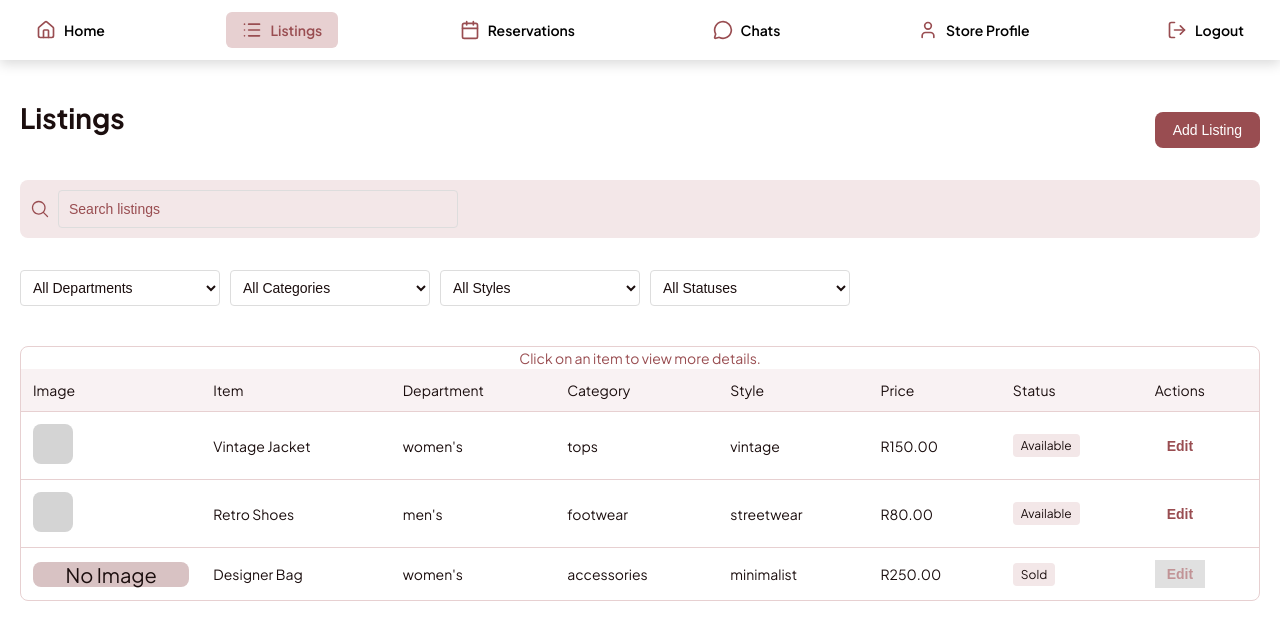
Scenario: StoreListings › Search and Filtering › filters by department
The width and height of the screenshot is (1280, 618).
Expected: the text "Vintage Jacket" is shown, [201, 412, 391, 480]
Select "men's" in the 1st dropdown showing "All Departments" at (120, 288), box [20, 270, 220, 306]
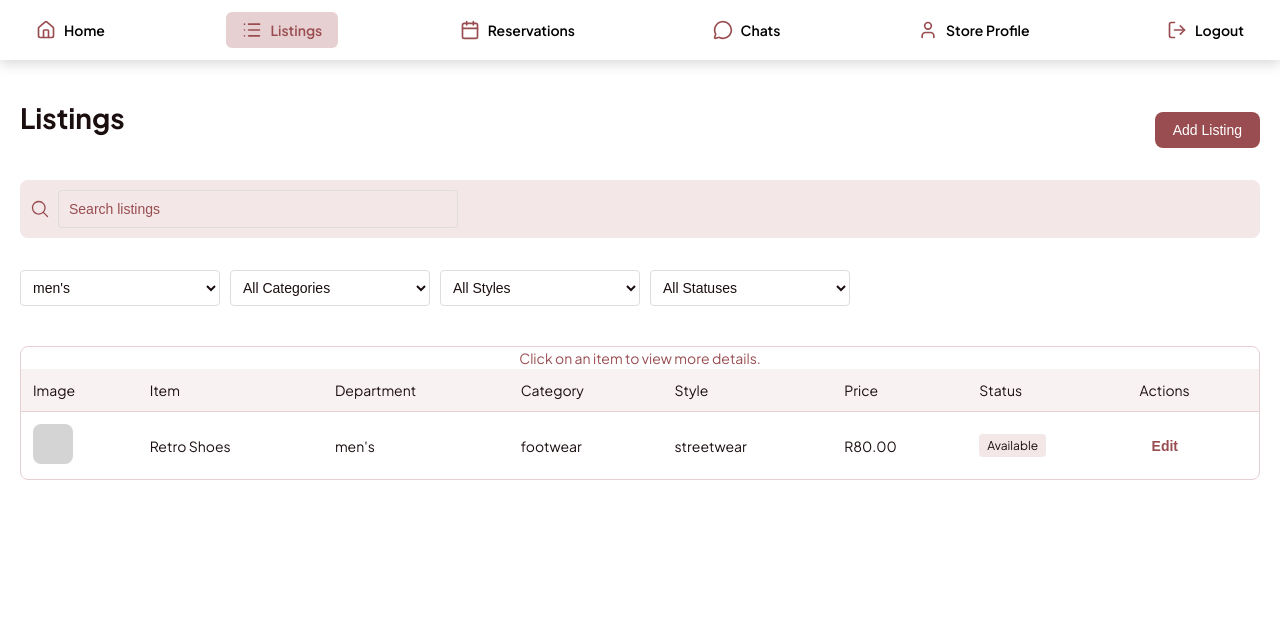
Expected: the text "Retro Shoes" is shown, [138, 412, 323, 479]
Now the text "Vintage Jacket" is gone
Now the text "Designer Bag" is gone
